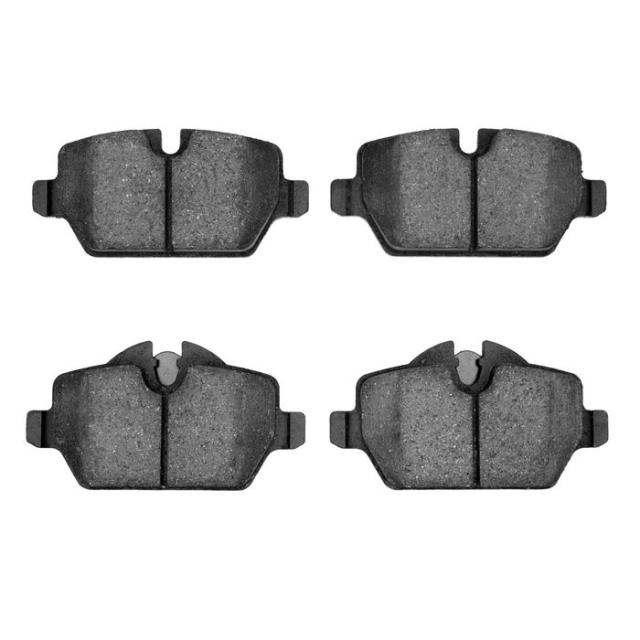brake_pad: (322, 333, 612, 517), (22, 331, 312, 499), (27, 111, 319, 270), (327, 120, 616, 274)
